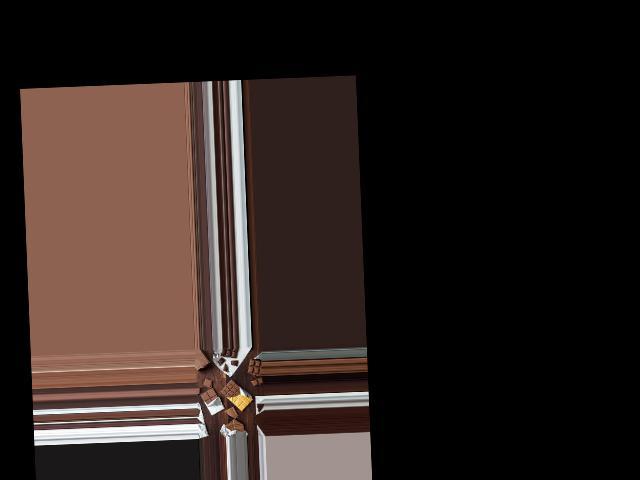chocolate: (197, 387, 225, 414)
